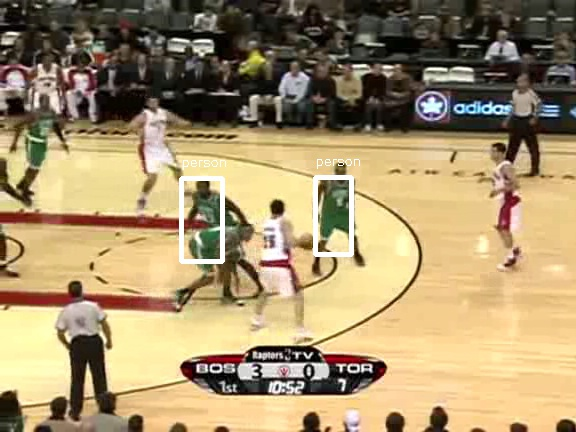person: (326, 167, 360, 248), (325, 167, 359, 248), (327, 167, 361, 248), (326, 166, 360, 247), (326, 168, 360, 249)
target_negative: (432, 86, 543, 325), (420, 71, 492, 341), (213, 258, 431, 301), (149, 169, 192, 301), (556, 373, 573, 420), (221, 252, 228, 267)
